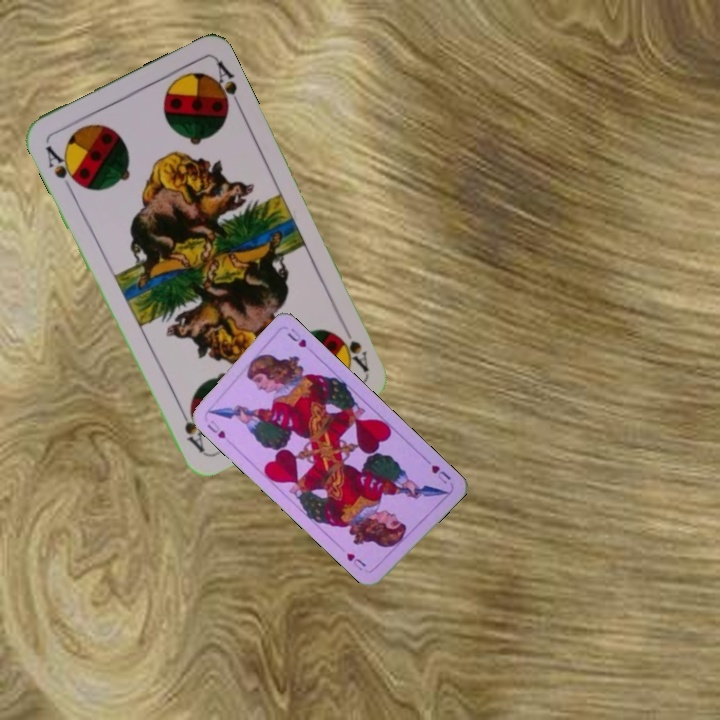HU: (427, 461, 453, 487), (203, 416, 228, 441)
SA: (41, 141, 83, 194), (332, 318, 371, 373)
